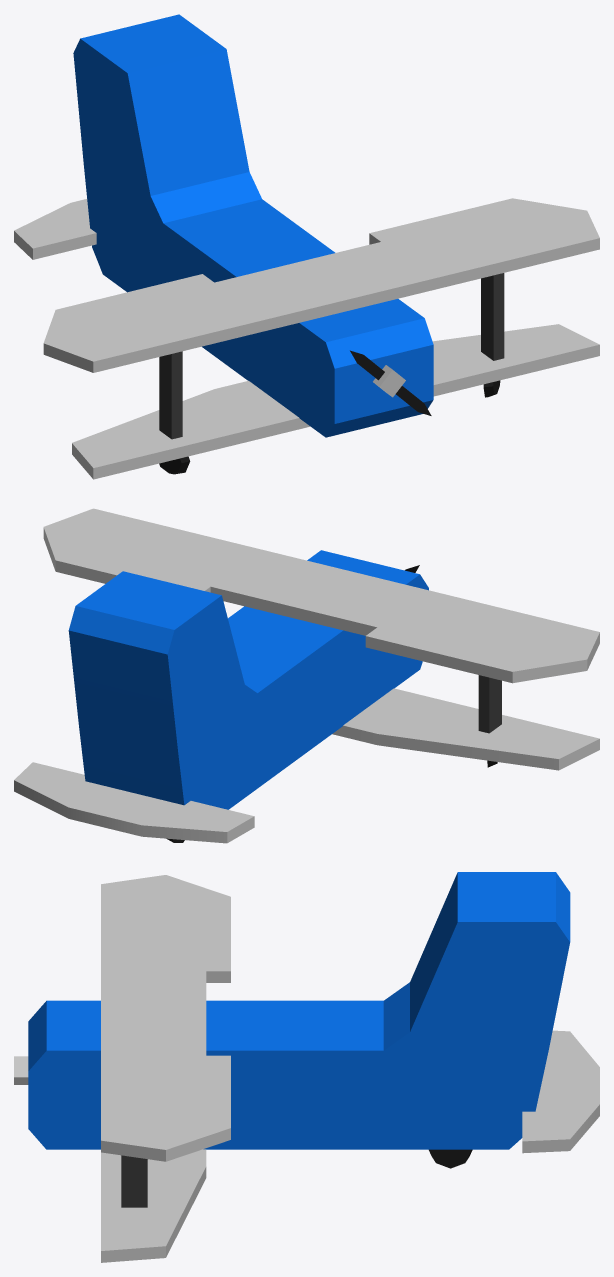
Rendered from Airplane_B.FBX.
3 views of the same model, one above another, from view 1: azimuth 30°, elevation 25°; view 2: azimuth 150°, elevation 25°; view 3: azimuth 270°, elevation 25° (orthographic). The views are drawn at different scales.
Visible parts, largest first — view 1: Airplane; view 2: Airplane; view 3: Airplane.
Boxes of the visible parts, x1,y1,x2,y2 form: Airplane: (14,14,599,479); Airplane: (14,508,599,843); Airplane: (14,872,599,1262).
Bounding box in the file's own units: 150 × 68.74 × 135.
